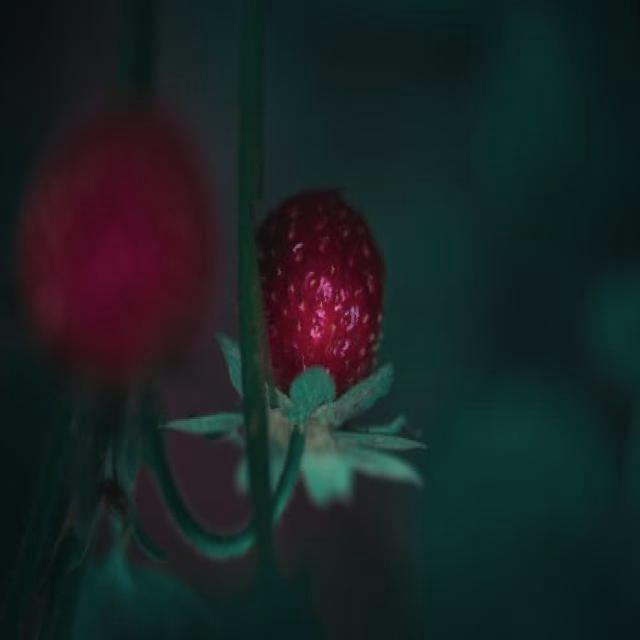strawberry: (253, 190, 391, 406)
